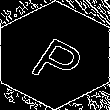P_NE: (22, 24, 88, 86)
